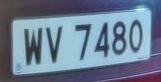0: (128, 15, 145, 56)
4: (93, 18, 112, 67)
7: (73, 20, 95, 66)
8: (110, 17, 129, 59)
V: (44, 23, 67, 68)
W: (20, 24, 46, 69)
